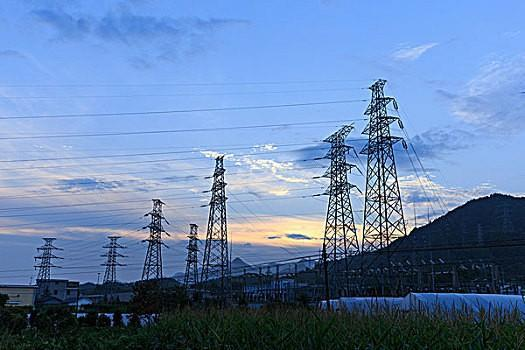power_tower: (358, 78, 413, 256), (319, 120, 359, 262), (201, 156, 238, 289), (138, 197, 172, 281), (30, 234, 67, 284), (99, 232, 133, 284), (182, 220, 200, 290)
